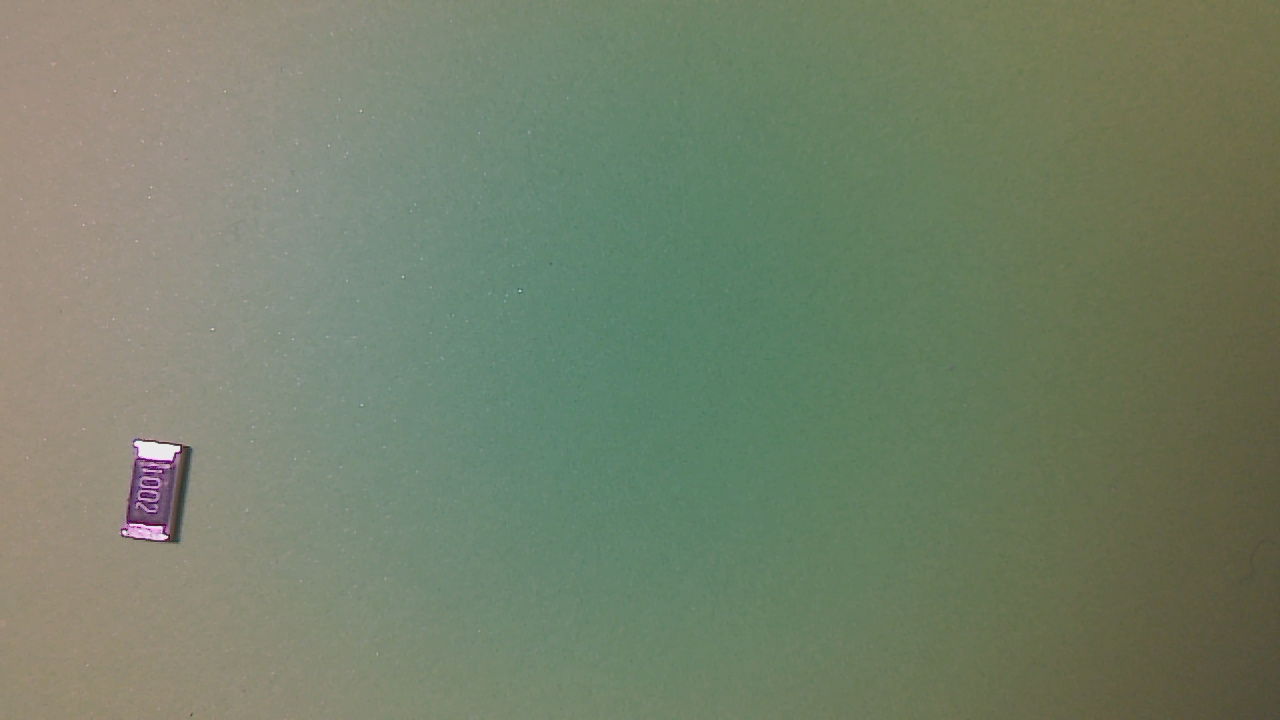Resistor: (121, 440, 201, 556)
